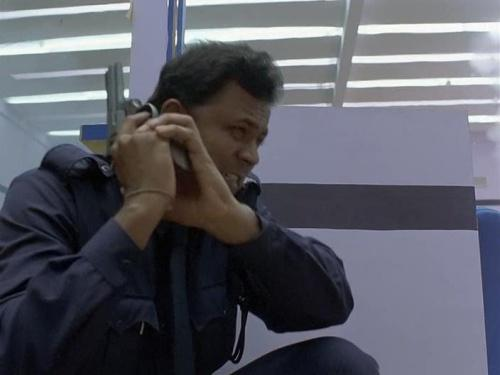Gun: (105, 61, 193, 189)
